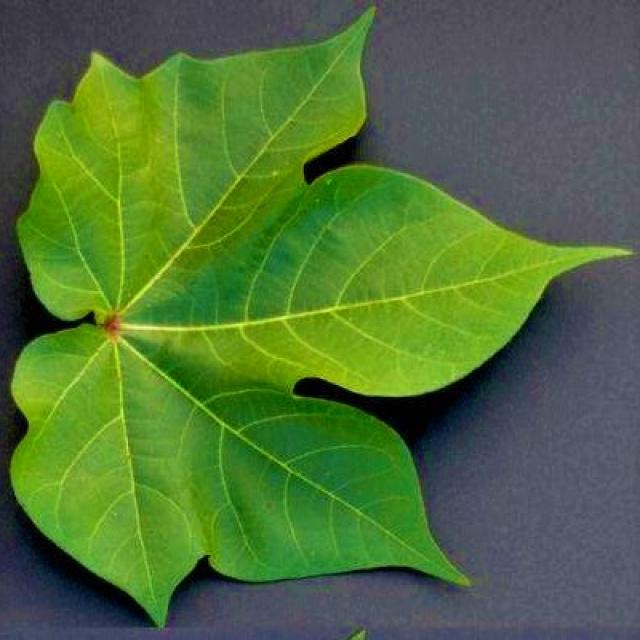Healthy Leaf: (6, 0, 614, 636)
